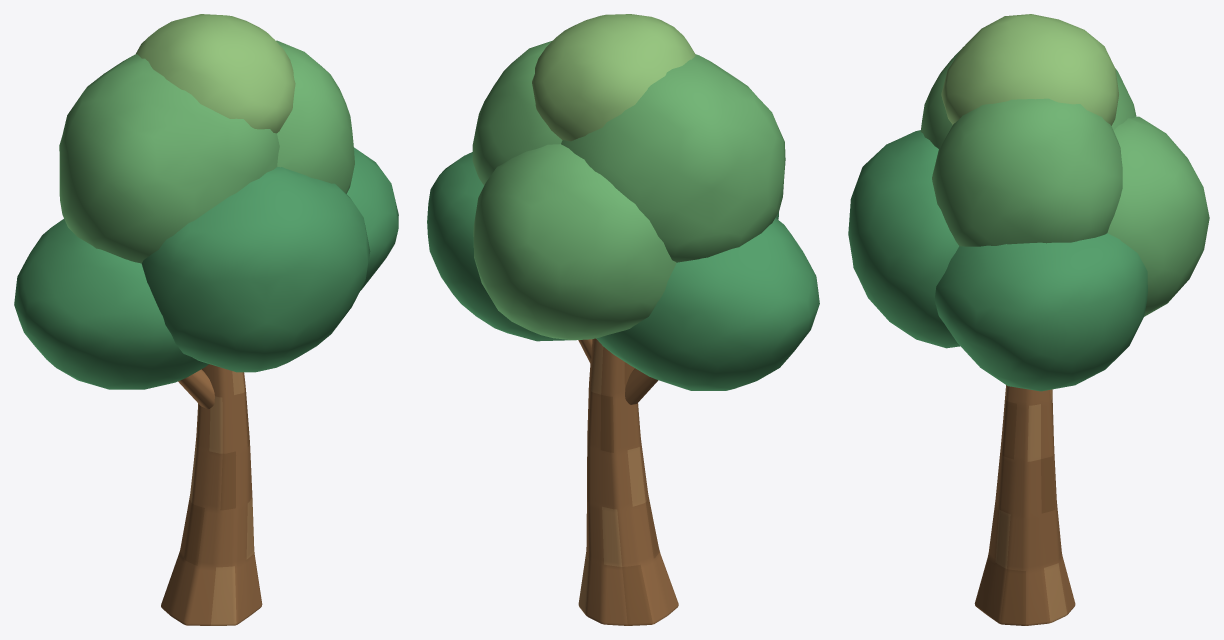
Rendered from cartoon_tree.glb.
3 views of the same model, side by side, from view 1: azimuth 30°, elevation 25°; view 2: azimuth 150°, elevation 25°; view 3: azimuth 270°, elevation 25° (orthographic).
Parts seen in each view (by area): view 1: Foliage_layer_02, Foliage_layer_04, Foliage_layer_00, Trunk_curved_taper, Foliage_layer_06, Foliage_layer_05, Foliage_layer_01, Branch_00; view 2: Foliage_layer_03, Foliage_layer_04, Foliage_layer_00, Trunk_curved_taper, Foliage_layer_06, Foliage_layer_01, Foliage_layer_05, Branch_00; view 3: Foliage_layer_01, Foliage_layer_05, Foliage_layer_02, Trunk_curved_taper, Foliage_layer_06, Foliage_layer_03, Foliage_layer_04.
Boxes of the visible parts, x1,y1,x2,y2 form: Foliage_layer_02: (141,167,370,372); Foliage_layer_04: (59,54,279,263); Foliage_layer_00: (14,219,208,389); Trunk_curved_taper: (161,364,262,625); Foliage_layer_06: (136,14,295,133); Foliage_layer_05: (276,40,354,193); Foliage_layer_01: (347,147,398,290); Branch_00: (178,369,214,409); Foliage_layer_03: (473,144,676,340); Foliage_layer_04: (561,54,785,262); Foliage_layer_00: (596,218,819,390); Trunk_curved_taper: (578,338,678,625); Foliage_layer_06: (532,14,695,141); Foliage_layer_01: (427,152,570,341); Foliage_layer_05: (472,40,562,185); Branch_00: (625,368,658,404); Foliage_layer_01: (934,233,1147,391); Foliage_layer_05: (932,98,1122,246); Foliage_layer_02: (848,130,959,348); Trunk_curved_taper: (974,385,1075,625); Foliage_layer_06: (941,14,1118,125); Foliage_layer_03: (1107,116,1209,316); Foliage_layer_04: (920,47,1136,148).
Bounding box in the file's own units: 3.27 × 4.98 × 2.79.
